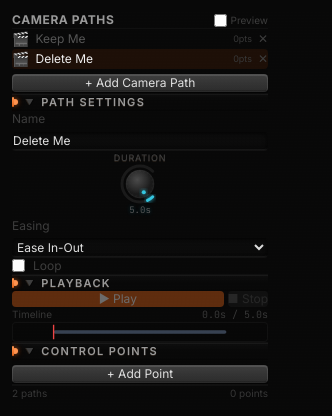
Test: CameraPathEditor › path deletion › preserves other paths when deleting one
What coordinates should you click on to do the following:
click the button named "Remove Delete Me"
I would click on:
 (263, 59)
Its box is [258,51,268,67].
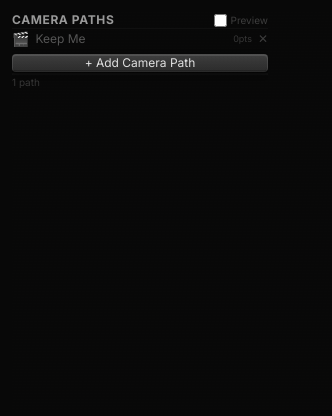
expect the text "Keep Me" is shown: met, box [36,31,86,46]
expect the button "Delete Me" is gone: met
